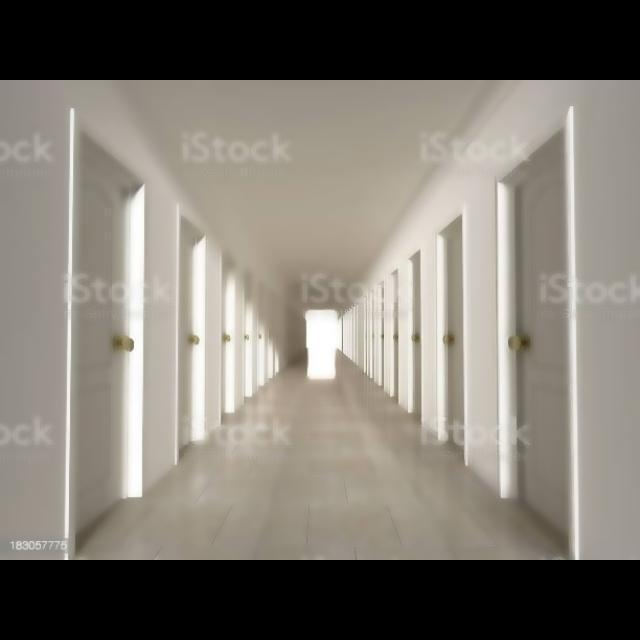door: (500, 100, 581, 558), (67, 137, 136, 544), (432, 202, 478, 457), (171, 209, 205, 457)
